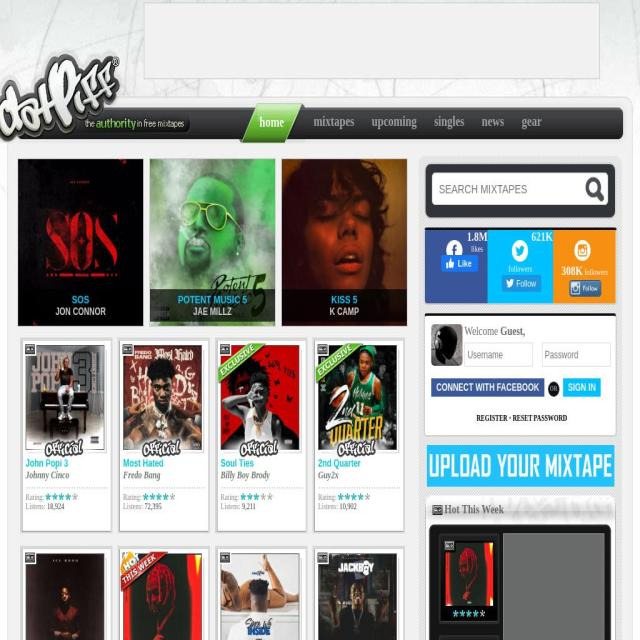button: (18, 158, 144, 327), (150, 158, 276, 327), (282, 158, 408, 327), (239, 97, 305, 143), (362, 97, 426, 143), (304, 97, 364, 143), (425, 97, 473, 143), (432, 378, 544, 397), (473, 97, 513, 143), (512, 97, 550, 143), (562, 378, 602, 397)
field: (432, 173, 609, 205), (464, 342, 534, 367), (541, 342, 611, 367), (586, 176, 604, 202)
heading: (444, 502, 504, 516), (432, 505, 442, 515)
iframe: (501, 275, 541, 292), (441, 255, 478, 272)
image: (18, 159, 143, 326), (150, 159, 275, 326), (282, 159, 407, 326), (0, 45, 124, 143), (123, 345, 201, 448), (318, 345, 396, 448), (26, 345, 103, 448), (221, 345, 298, 448), (426, 445, 614, 487), (123, 553, 201, 640), (318, 553, 396, 640), (26, 553, 103, 640), (221, 553, 298, 640), (444, 541, 492, 604), (218, 344, 266, 384), (316, 344, 363, 384), (121, 552, 168, 592), (432, 324, 462, 366), (419, 156, 622, 162), (26, 482, 108, 492), (123, 482, 205, 492), (220, 482, 302, 492), (318, 482, 400, 492), (569, 280, 602, 297), (512, 240, 529, 262), (574, 240, 590, 262), (447, 240, 462, 262), (45, 493, 77, 500), (143, 493, 175, 500), (240, 493, 272, 500), (338, 493, 370, 500), (453, 610, 485, 617), (122, 344, 134, 356), (25, 344, 36, 356), (220, 344, 231, 356), (317, 344, 328, 356), (122, 553, 134, 564), (444, 541, 456, 552), (25, 553, 36, 564), (220, 553, 231, 564), (317, 553, 328, 564)
link: (432, 218, 607, 239), (432, 230, 598, 252), (513, 413, 568, 422), (318, 458, 361, 469), (26, 458, 68, 469), (123, 458, 164, 469), (220, 458, 253, 469), (476, 413, 508, 422), (549, 230, 580, 239), (462, 230, 492, 239), (450, 242, 475, 252), (478, 242, 503, 252), (513, 218, 543, 226), (546, 218, 574, 226), (522, 230, 546, 239), (496, 230, 518, 239), (489, 218, 510, 226), (442, 230, 459, 239), (470, 218, 486, 226)
text: (144, 2, 598, 78), (503, 533, 603, 640), (22, 433, 112, 465), (120, 433, 209, 465), (315, 433, 404, 465), (218, 433, 306, 465), (21, 306, 140, 317), (153, 306, 272, 317), (285, 306, 404, 317), (258, 97, 284, 145), (123, 469, 201, 482), (318, 469, 396, 482), (26, 469, 103, 482), (221, 469, 298, 482), (177, 293, 247, 306), (371, 113, 417, 129), (314, 113, 354, 129), (464, 324, 500, 338), (434, 113, 464, 129), (432, 216, 471, 227), (482, 113, 504, 129), (331, 293, 358, 306), (500, 324, 525, 338), (521, 113, 542, 129), (561, 264, 583, 278), (531, 230, 553, 243), (467, 230, 488, 243), (508, 264, 532, 274), (72, 293, 90, 306), (582, 268, 608, 276), (26, 492, 46, 502), (123, 492, 143, 502), (220, 492, 240, 502), (318, 492, 338, 502), (220, 502, 242, 511), (318, 502, 339, 511), (26, 502, 46, 511), (124, 502, 144, 511), (548, 382, 560, 396), (47, 502, 65, 511), (144, 502, 162, 511), (340, 502, 358, 511), (242, 502, 256, 511), (471, 244, 483, 253), (438, 228, 443, 240), (458, 228, 463, 240), (518, 228, 523, 240), (579, 228, 584, 240), (509, 216, 514, 227), (542, 216, 547, 227), (572, 216, 577, 227), (446, 241, 451, 252), (474, 241, 479, 252), (492, 228, 496, 240), (545, 228, 549, 240), (508, 413, 513, 422), (486, 216, 490, 227)
